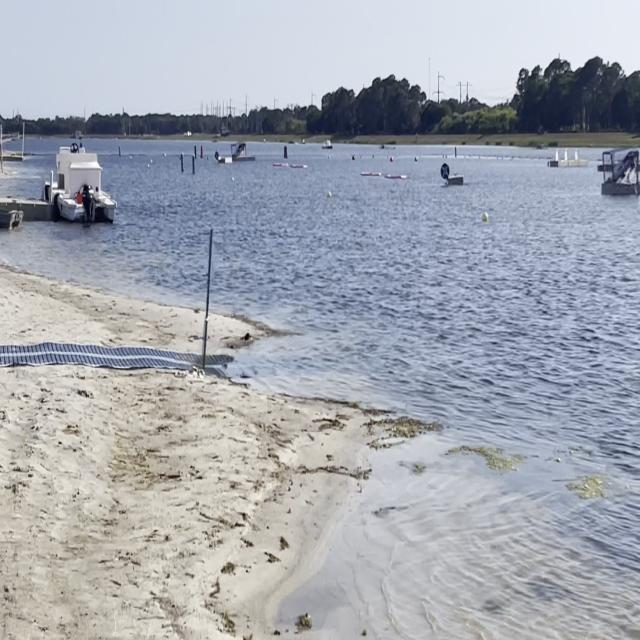buoy: (481, 212, 488, 223), (328, 192, 332, 198), (390, 157, 393, 162)
